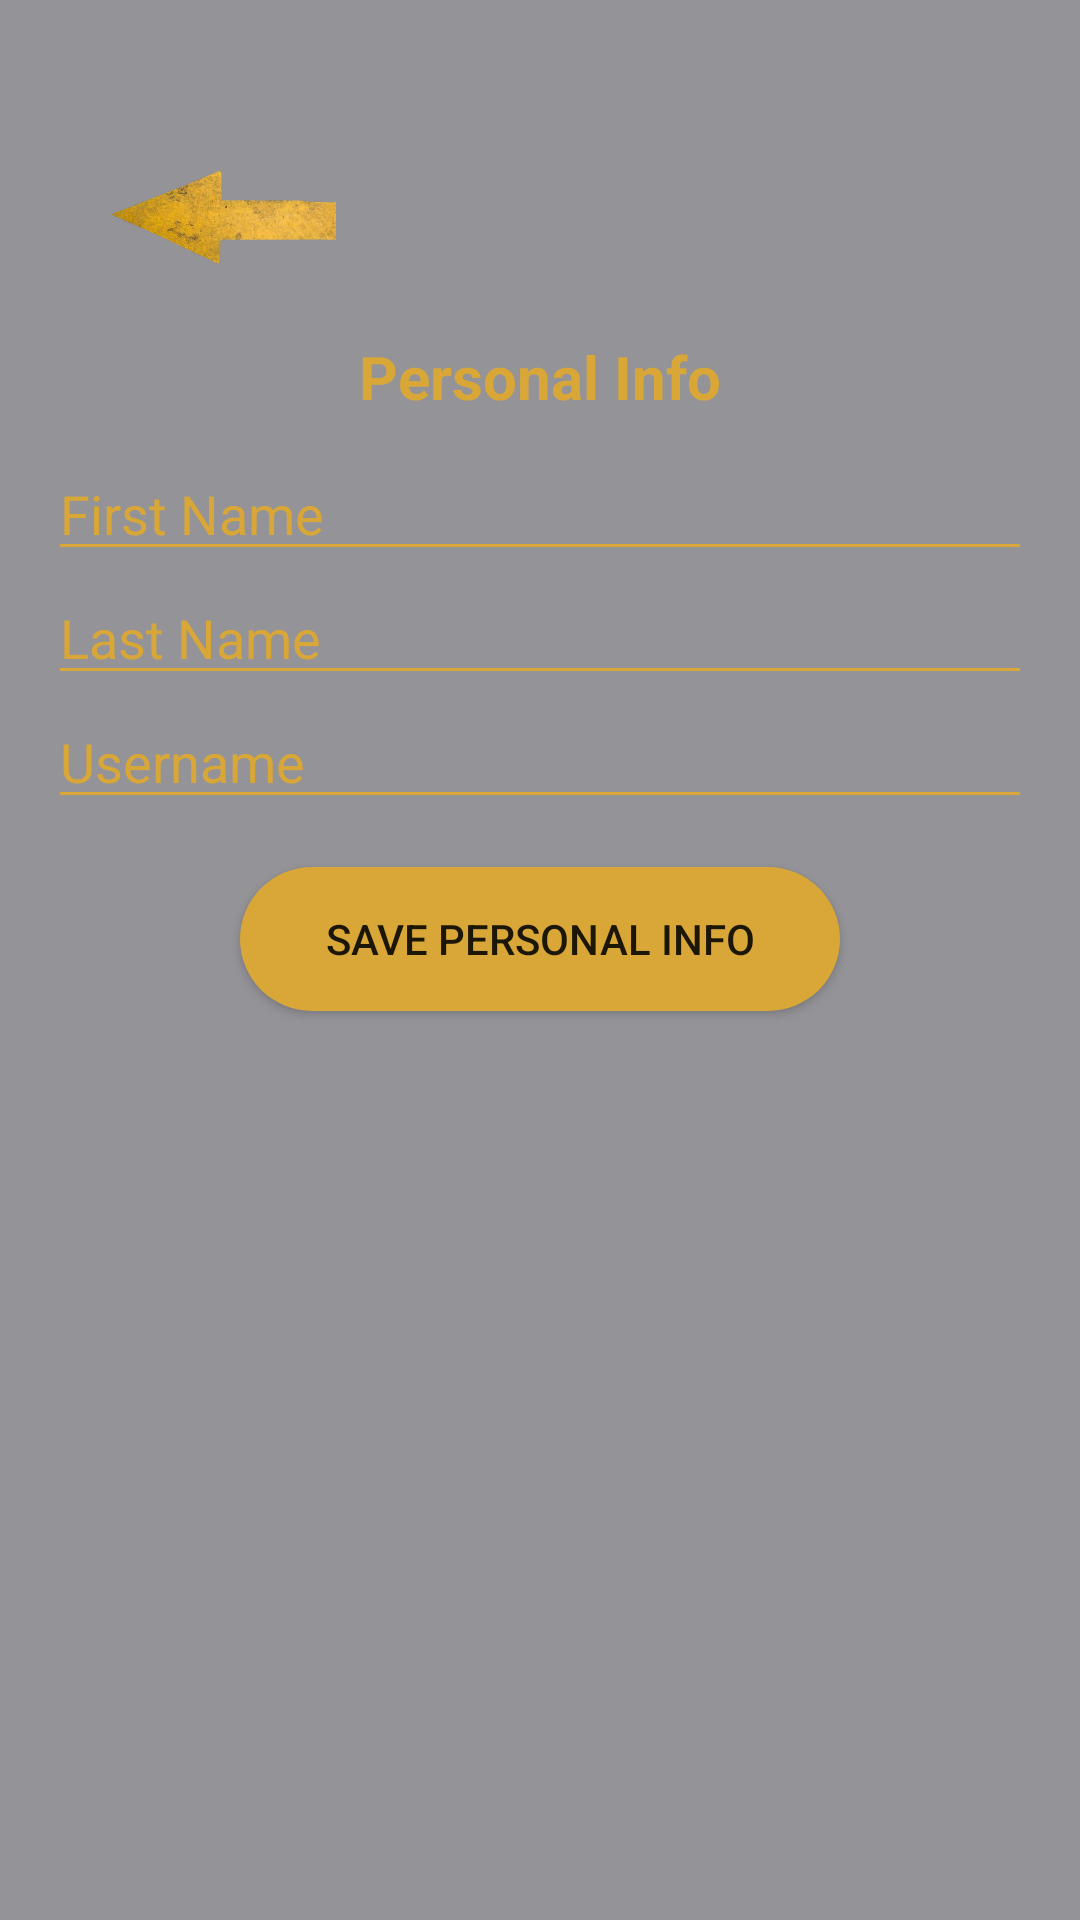

Icons on this 1080*1920 Android screen, each with the point to tap as (x,y):
back: (224,217)
